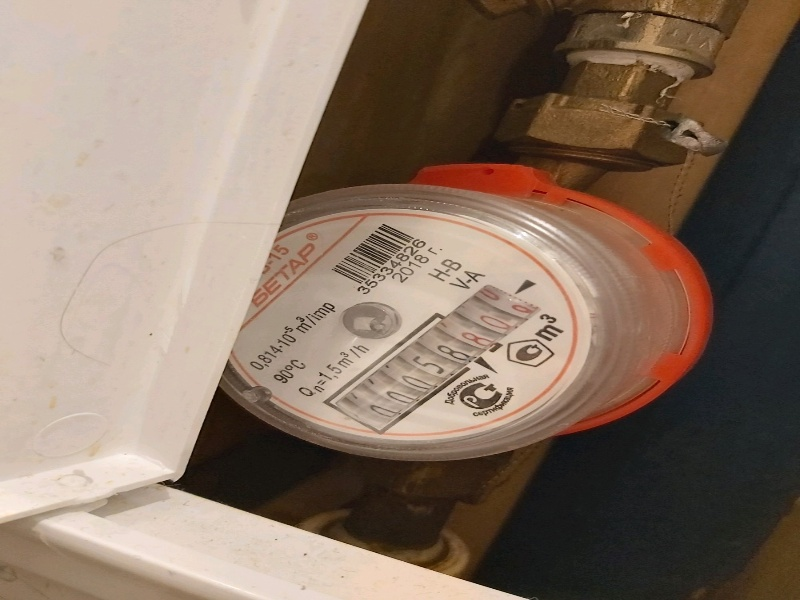meter: (369, 292, 531, 361)
